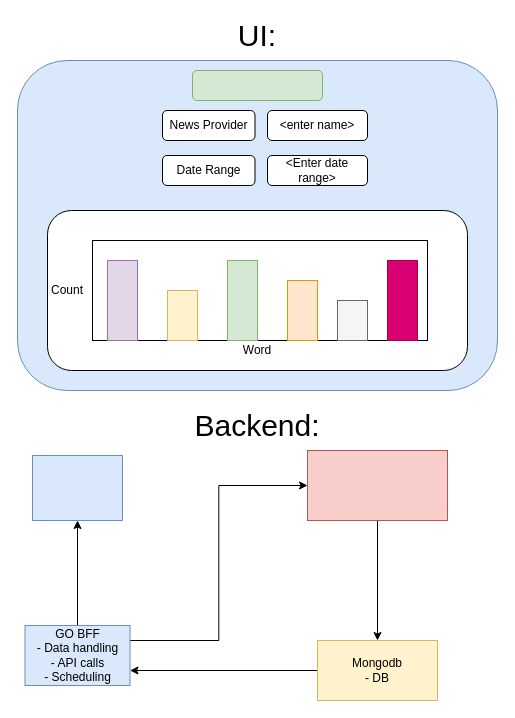
Image size: 515x718. Some labels were removed from this diagram. Here are the shapes that lost their labels. From the top down, the box of each, then its label:
(192, 70, 322, 100): Headline Analytics
(32, 454, 122, 520): BUD Javascript interface - UI
(306, 450, 448, 520): Python Scraper - Analytics
